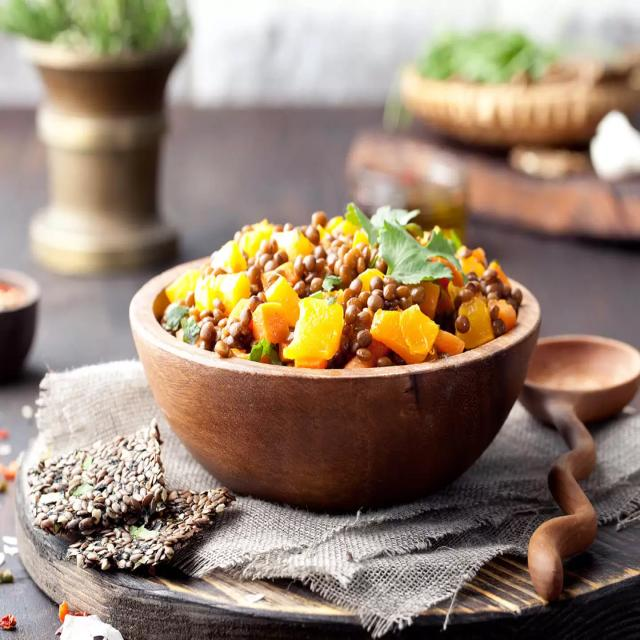lentejas: (139, 198, 533, 379)
